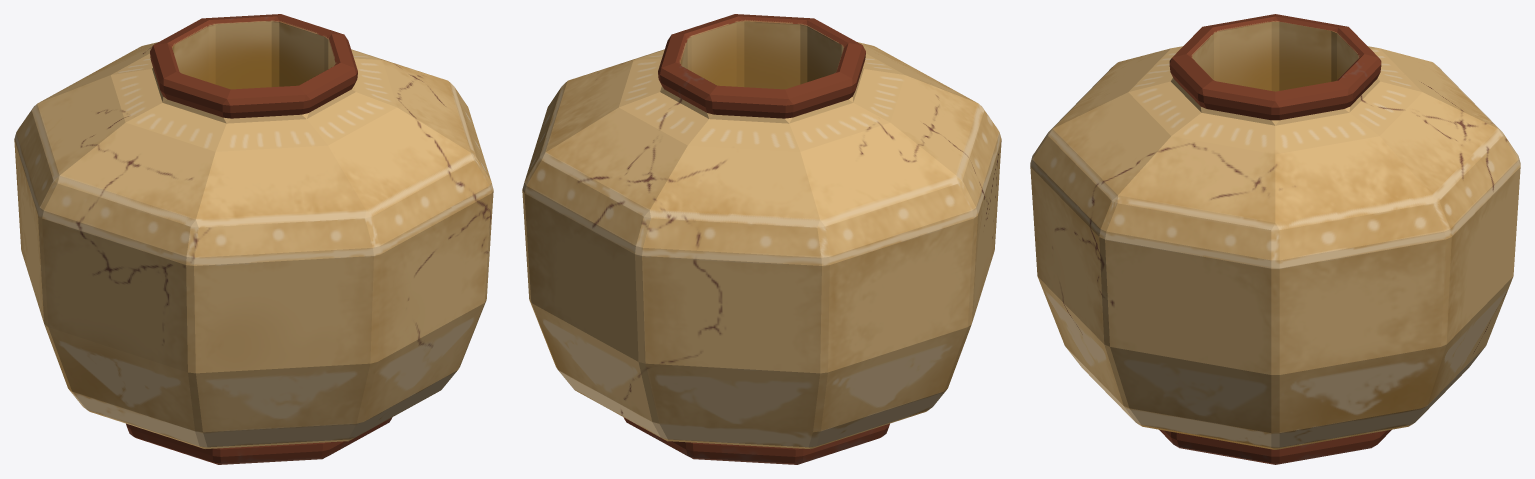
Rendered from vase3.fbx.
The picture shows the model from 3 angles, left to right: view 1: azimuth 30°, elevation 25°; view 2: azimuth 150°, elevation 25°; view 3: azimuth 270°, elevation 25°; orthographic projection.
Visible parts, largest first — view 1: vase3; view 2: vase3; view 3: vase3.
Part boxes in pixels (box(x1,y1,x2,y2)): vase3: box(14, 14, 493, 464); vase3: box(522, 14, 1001, 464); vase3: box(1030, 14, 1520, 464).
Size of the model in its own units: 72.18 by 57.43 by 72.18.
